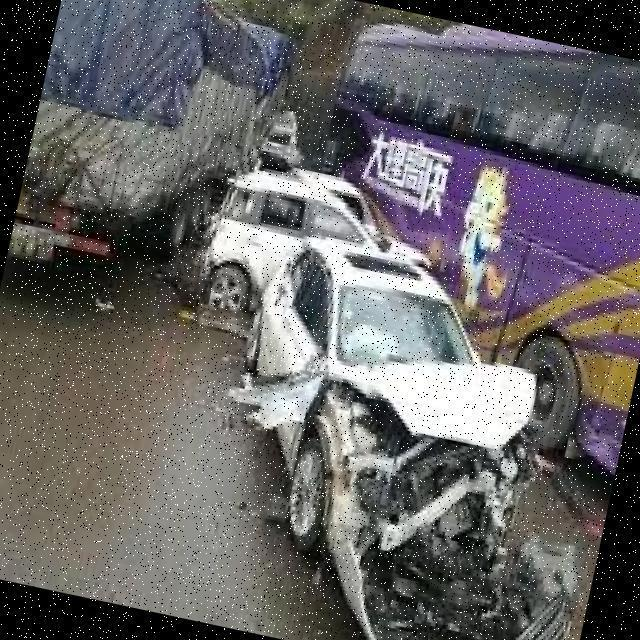accident: (128, 133, 640, 640)
